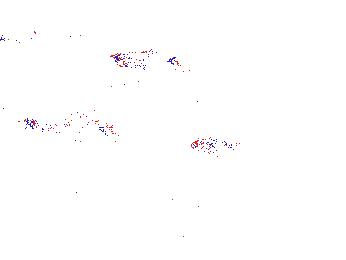X-ray fish: (333, 186, 346, 210)
red belly glassfish: (189, 137, 232, 154), (230, 137, 265, 154)
redtail glassfish: (23, 108, 120, 142), (1, 25, 85, 62), (110, 49, 183, 74), (110, 77, 148, 95)
